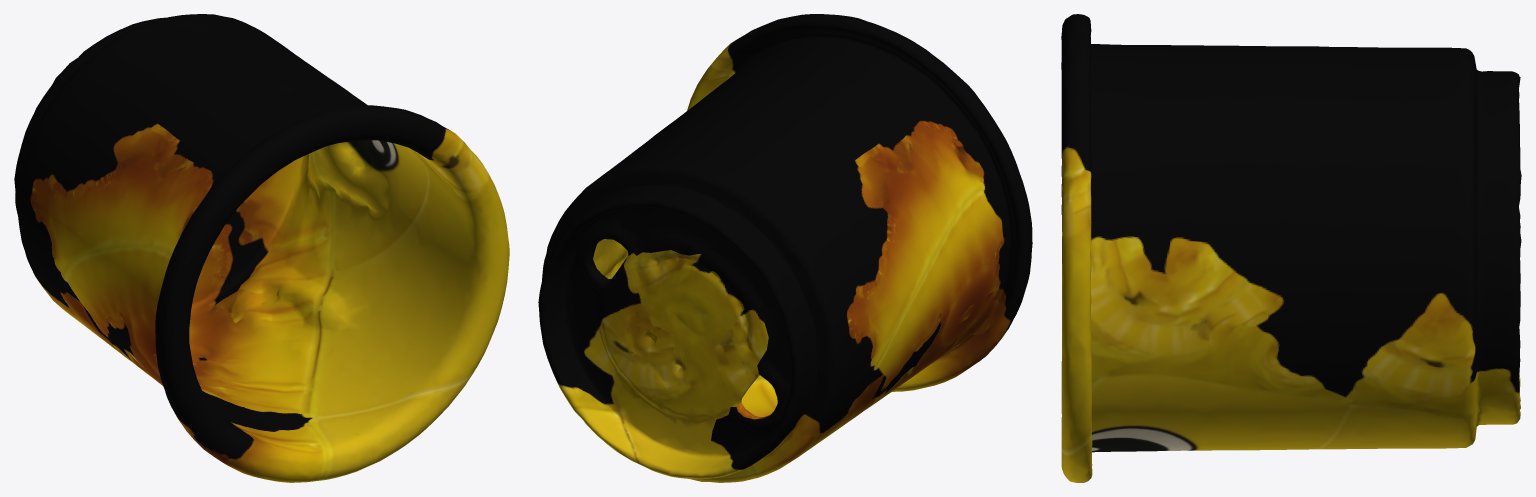
The picture shows the model from 3 angles, left to right: view 1: azimuth 30°, elevation 25°; view 2: azimuth 150°, elevation 25°; view 3: azimuth 270°, elevation 25°; orthographic projection. The views are drawn at different scales.
Size of the model in its own units: 0.0707 by 0.0707 by 0.0689.
